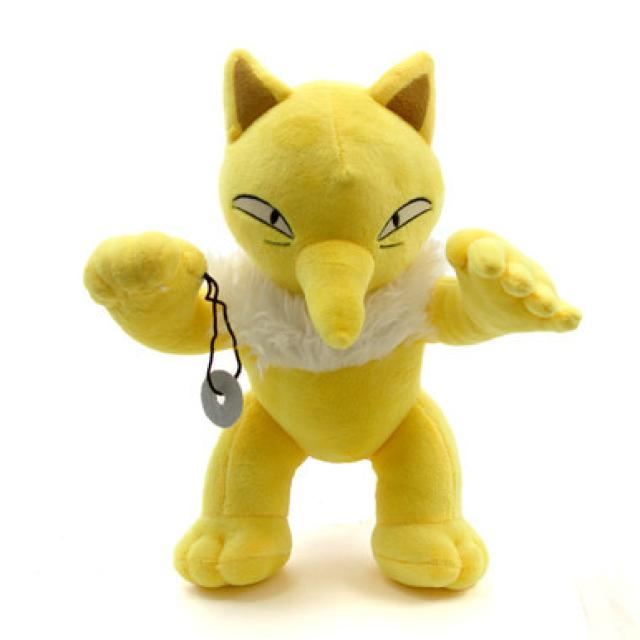Hypno: (159, 50, 513, 604)
